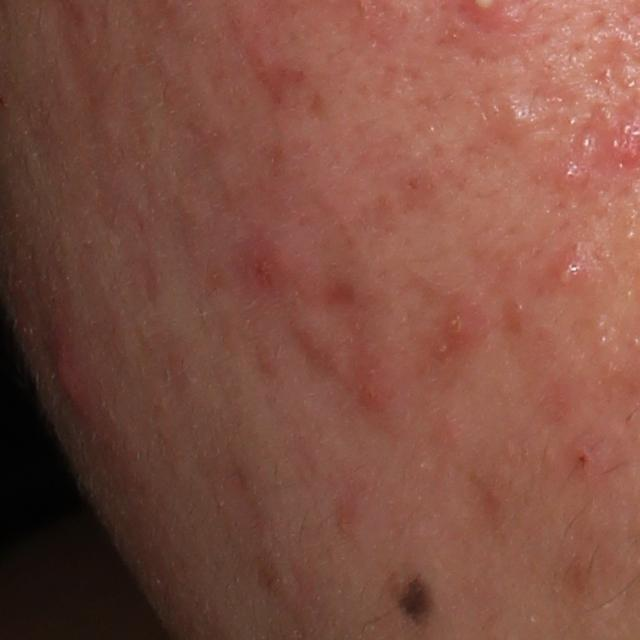atrophic_scar: (570, 27, 640, 99), (571, 99, 619, 177), (254, 62, 317, 118)
nevus: (396, 568, 435, 634)
papule: (228, 217, 323, 296), (435, 290, 493, 354), (47, 348, 83, 417), (496, 101, 540, 141), (555, 159, 593, 192)
pustule: (546, 252, 599, 294)
